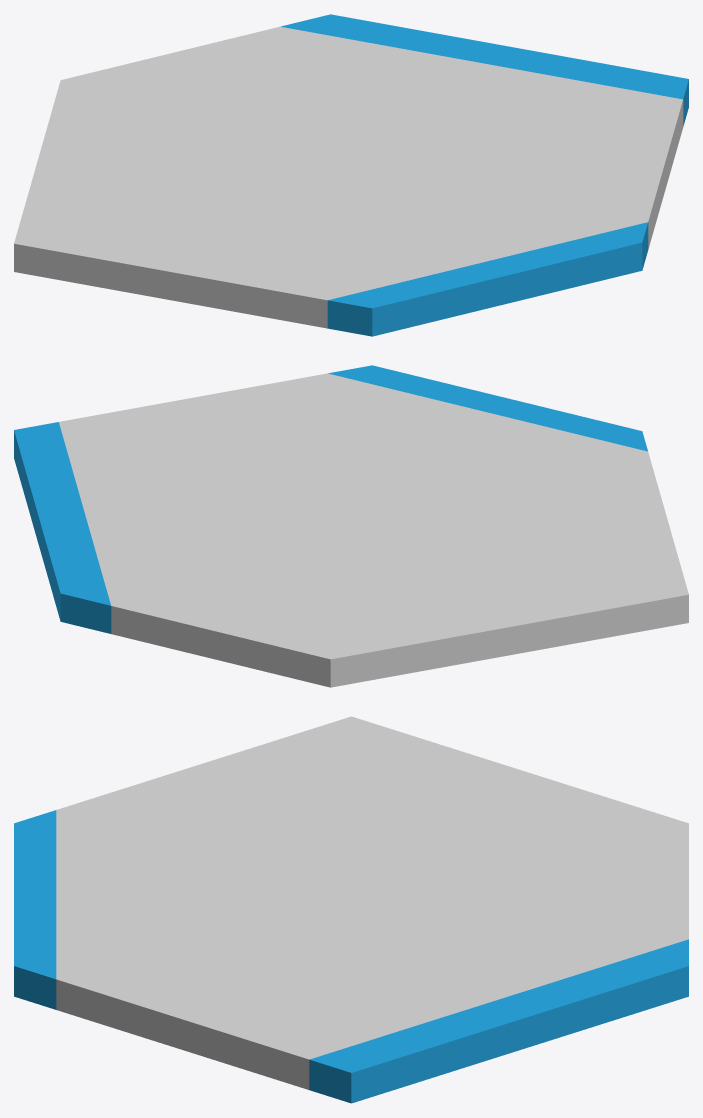
The picture shows the model from 3 angles, top to bottom: view 1: azimuth 30°, elevation 25°; view 2: azimuth 150°, elevation 25°; view 3: azimuth 270°, elevation 25°; orthographic projection. The views are drawn at different scales.
Visible parts, largest first — view 1: Hexagon, S, NE; view 2: Hexagon, NE, S; view 3: Hexagon, NE, S.
Boxes of the visible parts, box(x1,y1,x2,y2) form: Hexagon: box(14, 26, 683, 328); S: box(327, 222, 648, 336); NE: box(281, 14, 688, 126); Hexagon: box(59, 373, 688, 687); NE: box(14, 422, 111, 633); S: box(328, 365, 647, 451); Hexagon: box(56, 716, 688, 1089); NE: box(309, 939, 688, 1103); S: box(14, 810, 56, 1009).
Bounding box in the file's own units: 5 × 4 × 0.2.
